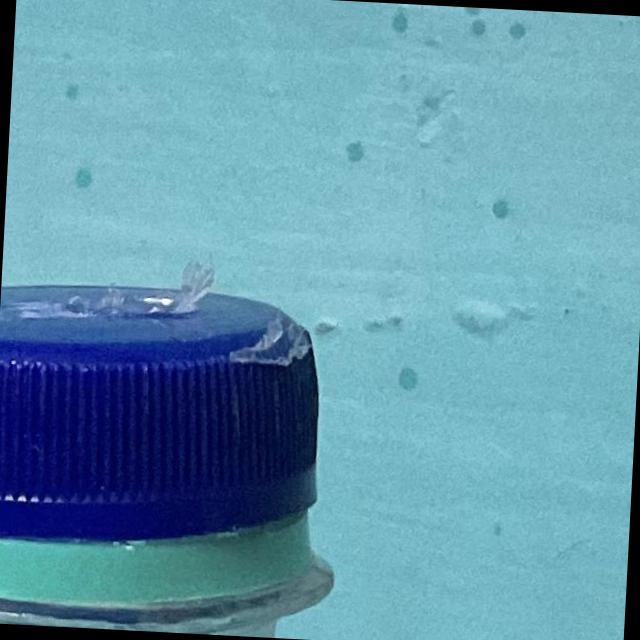Good-cap-Df0S: (0, 258, 345, 637)
